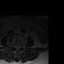CCS_normal: (17, 43, 18, 51)
LFS_normal: (20, 44, 22, 49)
LLS_normal: (18, 44, 20, 50)
RFS_normal: (13, 43, 15, 49)
RLS_normal: (15, 43, 17, 50)
